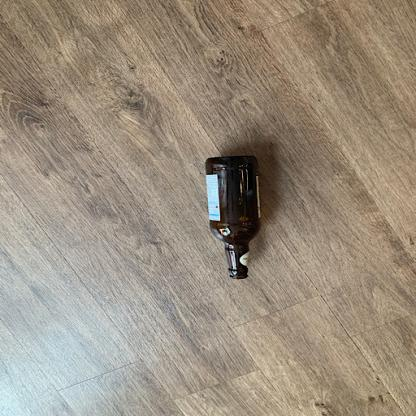trash: (201, 152, 265, 280)
